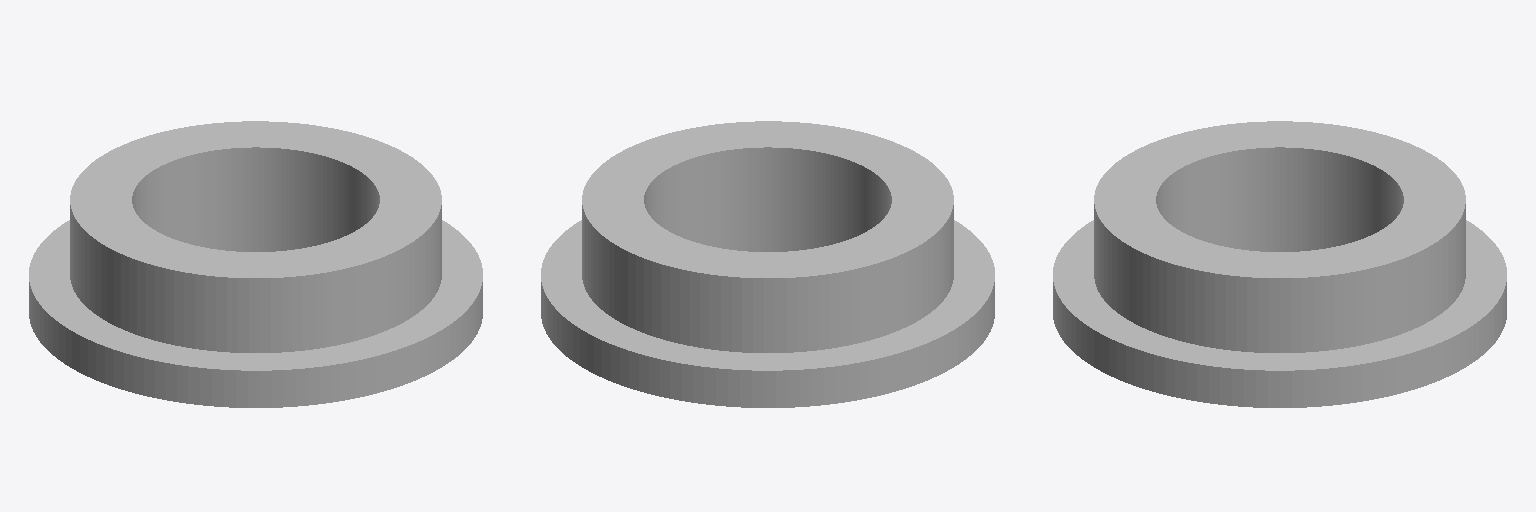
The model's file is base_plate.obj.
3 views of the same model, side by side, from view 1: azimuth 30°, elevation 25°; view 2: azimuth 150°, elevation 25°; view 3: azimuth 270°, elevation 25° (orthographic).
Parts seen in each view (by area): view 1: 1; view 2: 1; view 3: 1.
Part boxes in pixels (bbox=[...]): 1: bbox=[29, 121, 482, 407]; 1: bbox=[541, 121, 994, 407]; 1: bbox=[1053, 121, 1506, 407].
Size of the model in its own units: 5.5 by 1.5 by 5.5.